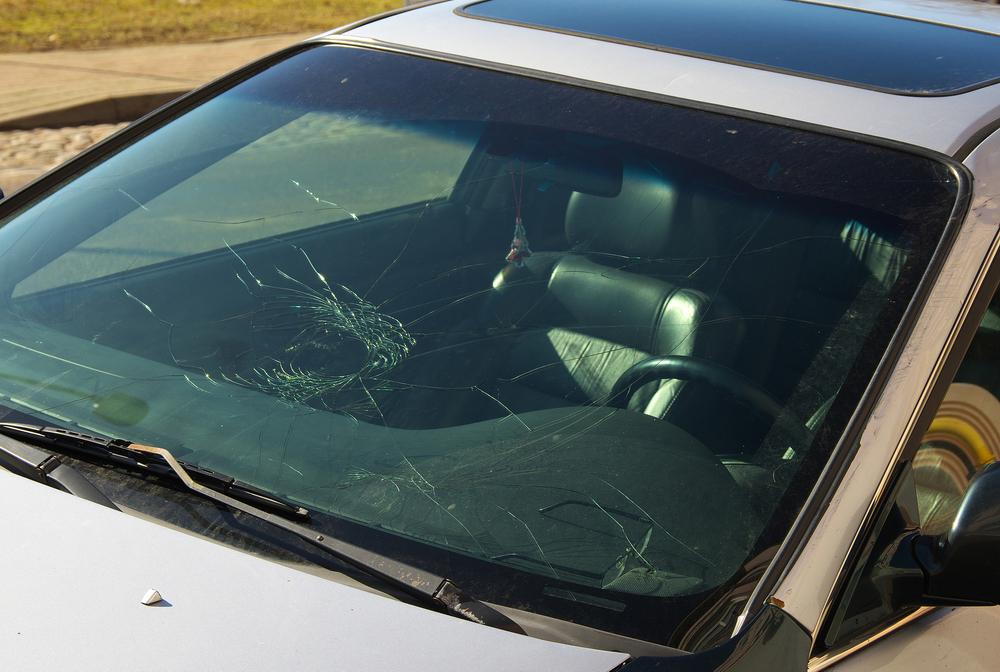glass shatter: (0, 44, 951, 596)
